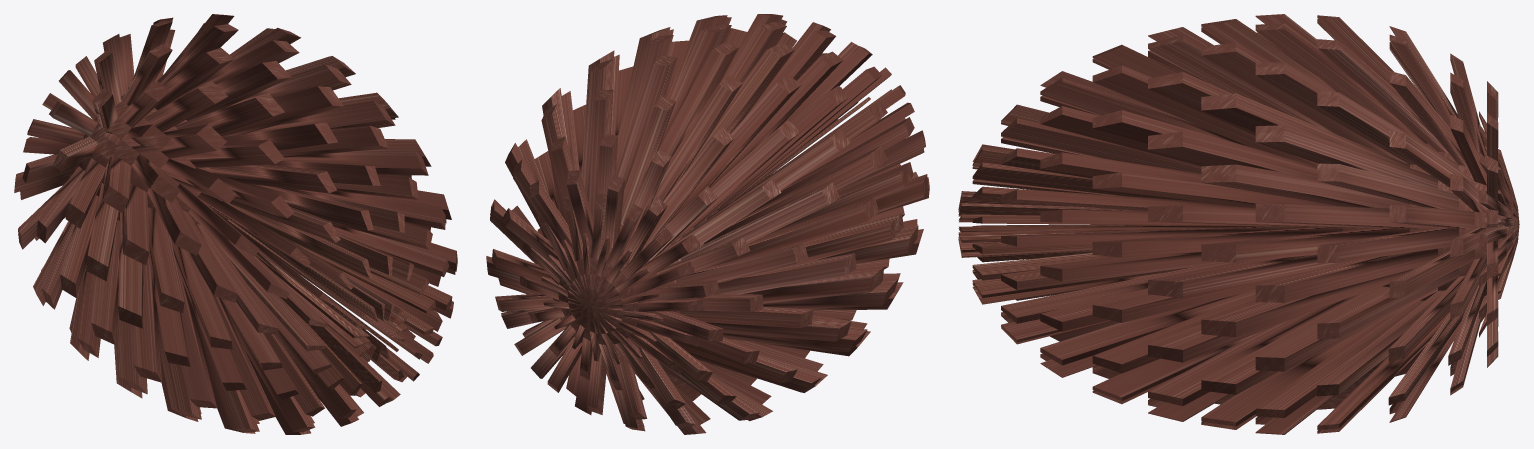
The model's file is Szyszka2.FBX.
3 renders of one model, left to right at view 1: azimuth 30°, elevation 25°; view 2: azimuth 150°, elevation 25°; view 3: azimuth 270°, elevation 25°, orthographic. The views are drawn at different scales.
Parts seen in each view (by area): view 1: Sphere004; view 2: Sphere004; view 3: Sphere004.
Part boxes in pixels (bbox=[...]): Sphere004: bbox=[14, 14, 457, 434]; Sphere004: bbox=[486, 14, 929, 434]; Sphere004: bbox=[958, 14, 1519, 434].
Size of the model in its own units: 12.57 by 12.57 by 16.77.
